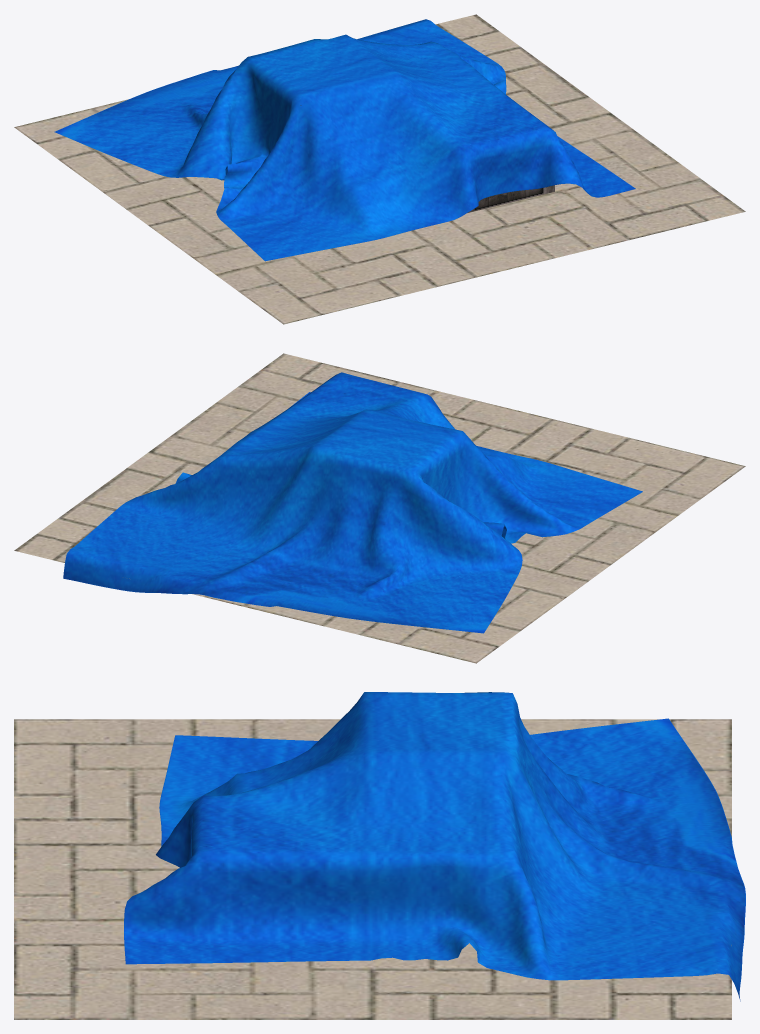
Rendered from Tarp2.glb.
3 renders of one model, top to bottom at view 1: azimuth 30°, elevation 25°; view 2: azimuth 150°, elevation 25°; view 3: azimuth 270°, elevation 25°, orthographic. The views are drawn at different scales.
Visible parts, largest first — view 1: Sheet, Ground, Box003; view 2: Sheet, Ground; view 3: Sheet, Ground.
Part boxes in pixels (box(x1,y1,x2,y2)): Sheet: box(54, 19, 635, 261); Ground: box(14, 14, 745, 324); Box003: box(468, 185, 554, 212); Sheet: box(63, 372, 642, 633); Ground: box(14, 353, 745, 663); Sheet: box(124, 692, 745, 1001); Ground: box(14, 719, 731, 1019).
Size of the model in its own units: 139 by 30.91 by 143.
5 materials, 5 textured.
